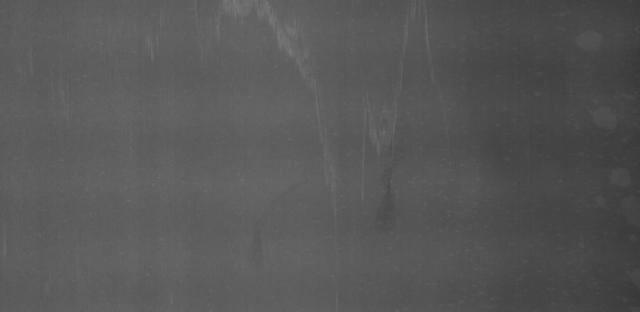silk_spot: (311, 95, 358, 199), (364, 85, 406, 154), (272, 25, 330, 72), (203, 2, 279, 28)
